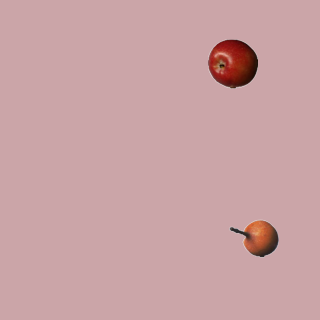Apple Braeburn: (207, 38, 257, 88)
Granadilla: (228, 213, 278, 263)
